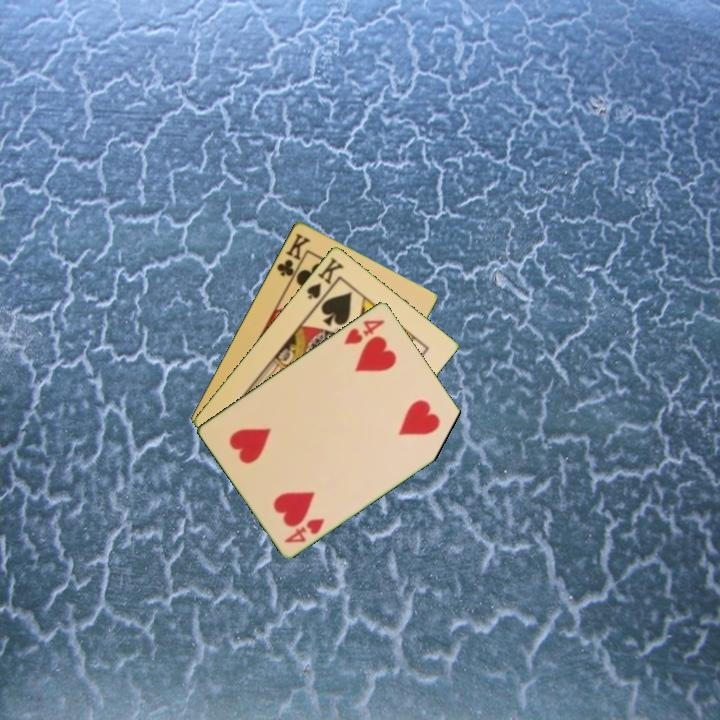4h: (280, 514, 328, 546), (340, 316, 388, 347)
Kc: (273, 229, 313, 285)
Ks: (303, 253, 347, 307)
